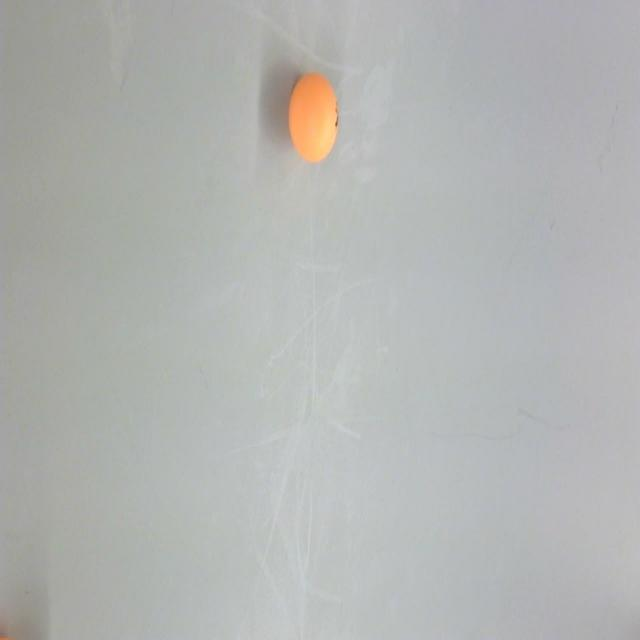ball: (286, 72, 340, 163)
